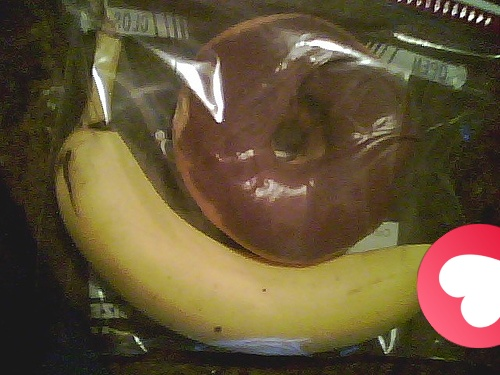love: (417, 224, 500, 348)
